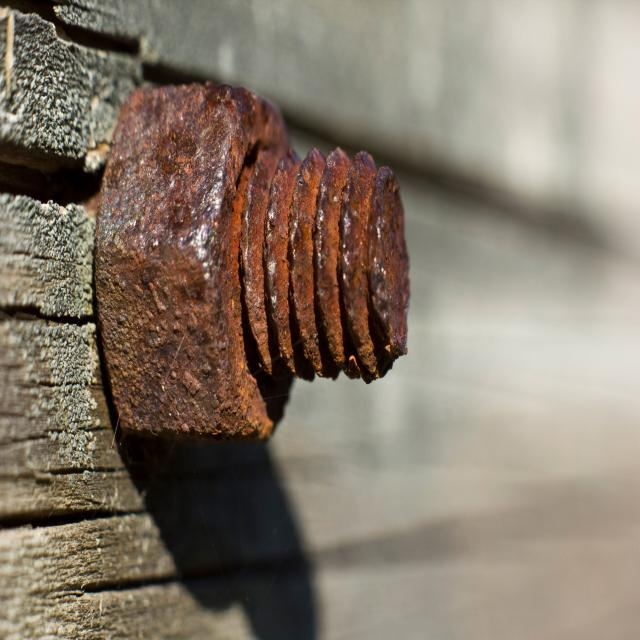Rusty bolt: (99, 82, 359, 446)
